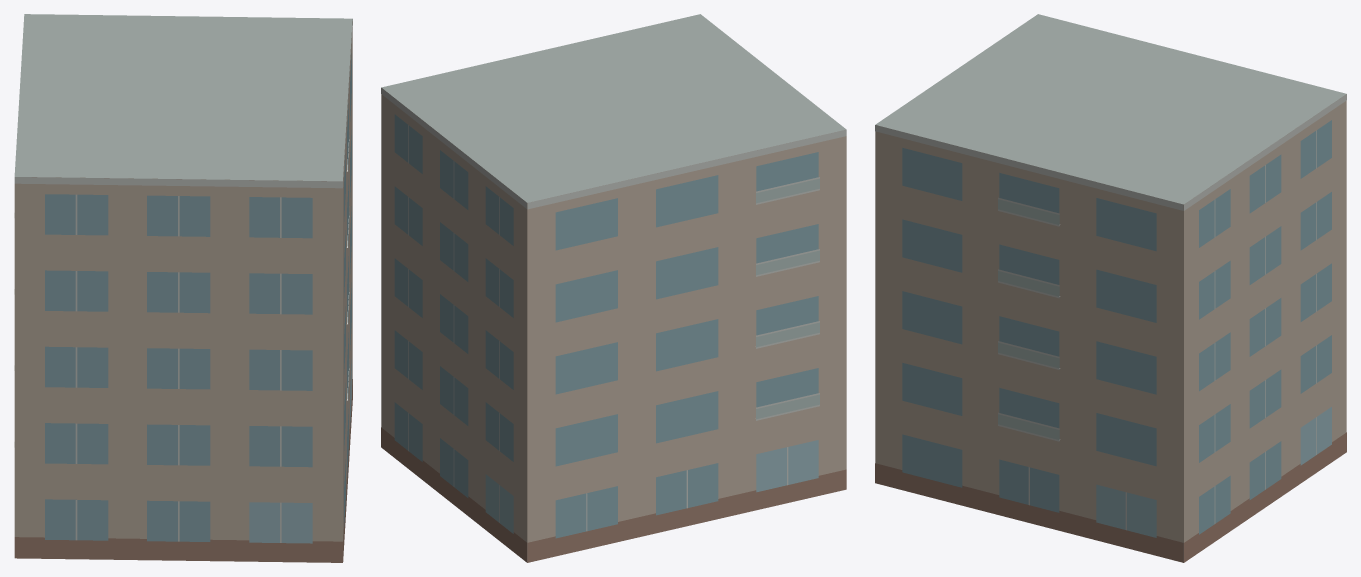
Rendered from survey-upis-32997987.glb.
3 renders of one model, left to right at view 1: azimuth 30°, elevation 25°; view 2: azimuth 150°, elevation 25°; view 3: azimuth 270°, elevation 25°, orthographic. The views are drawn at different scales.
Parts seen in each view (by area): view 1: survey-upis-32997987.tmp; view 2: survey-upis-32997987.tmp; view 3: survey-upis-32997987.tmp.
Part boxes in pixels (x1,y1,x2,y2): survey-upis-32997987.tmp: (14, 14, 352, 562); survey-upis-32997987.tmp: (381, 14, 846, 562); survey-upis-32997987.tmp: (875, 14, 1346, 562).
Bounding box in the file's own units: 15.35 × 13.45 × 16.05.
